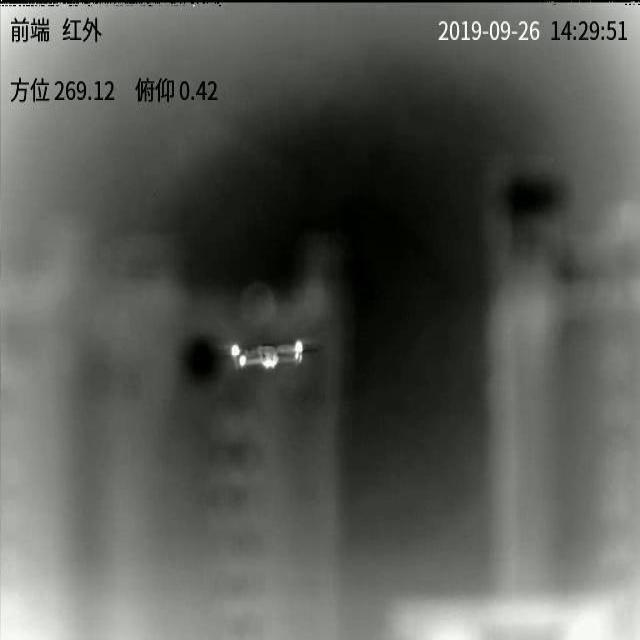drone: (229, 340, 303, 370)
